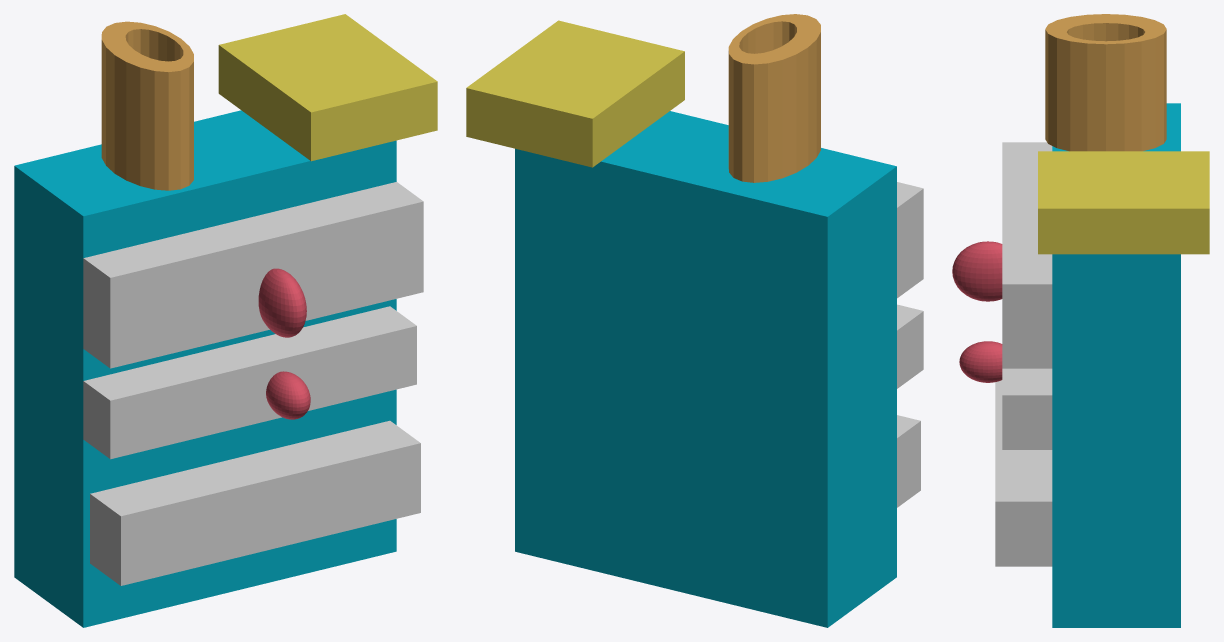
The model's file is Project 149.glb.
The picture shows the model from 3 angles, left to right: view 1: azimuth 30°, elevation 25°; view 2: azimuth 150°, elevation 25°; view 3: azimuth 270°, elevation 25°; orthographic projection. The views are drawn at different scales.
Parts seen in each view (by area): view 1: Mesh_Mesh_head_geo.001_lambert2SG.001; view 2: Mesh_Mesh_head_geo.001_lambert2SG.001; view 3: Mesh_Mesh_head_geo.001_lambert2SG.001.
Boxes of the visible parts, <box> form: Mesh_Mesh_head_geo.001_lambert2SG.001: <box>14,14,437,627</box>; Mesh_Mesh_head_geo.001_lambert2SG.001: <box>466,14,923,627</box>; Mesh_Mesh_head_geo.001_lambert2SG.001: <box>952,14,1209,627</box>.
Size of the model in its own units: 52 by 77 by 36.
